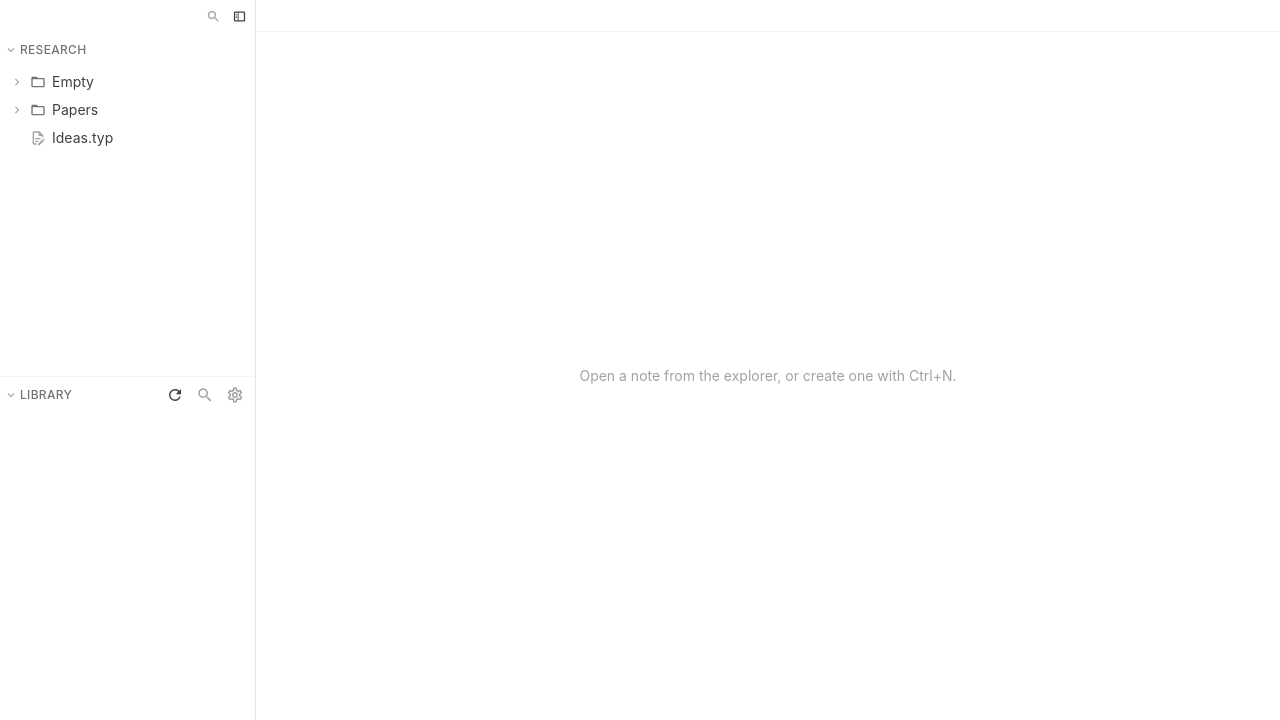
Renaming a folder › a name that can't be used is explained
This screenshot has width=1280, height=720.
Expected: the button "Ideas.typ" is shown, [6,124,249,152]
Right-click the button "Papers".
right_click(128, 110)  # box [6,96,249,124]
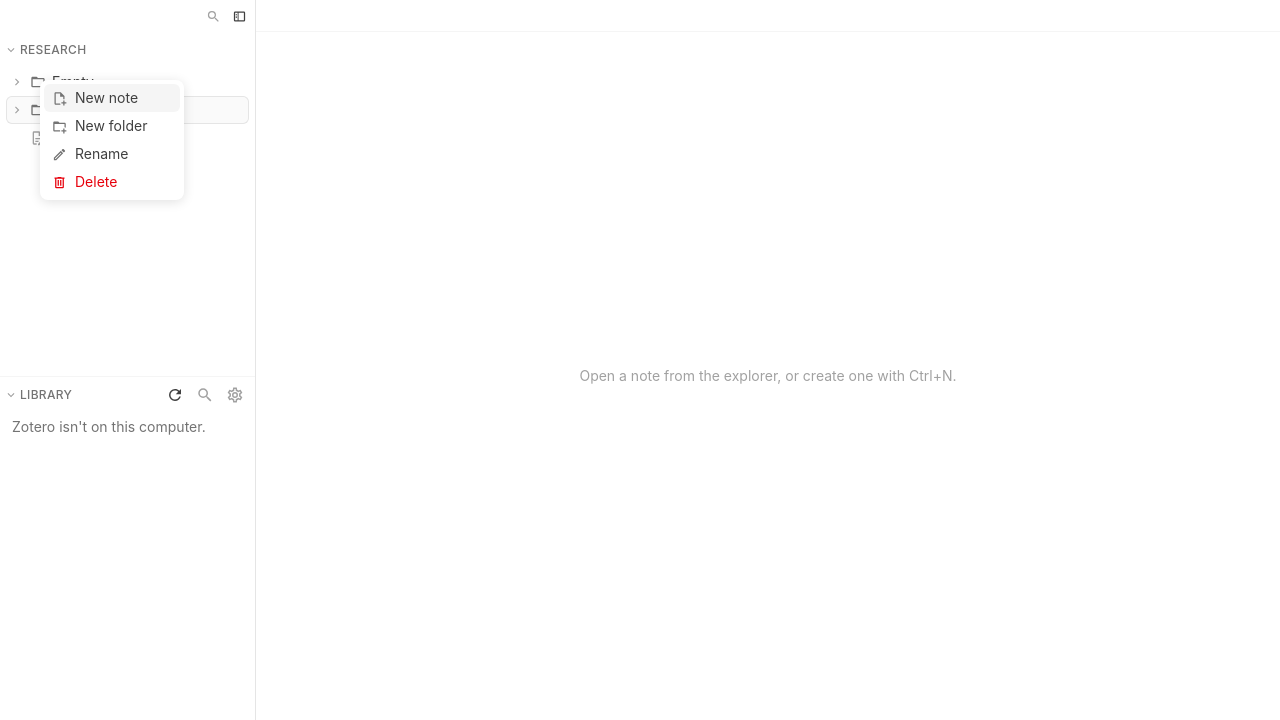
Click the menu item "Rename".
click(112, 154)  # box [44,140,180,168]
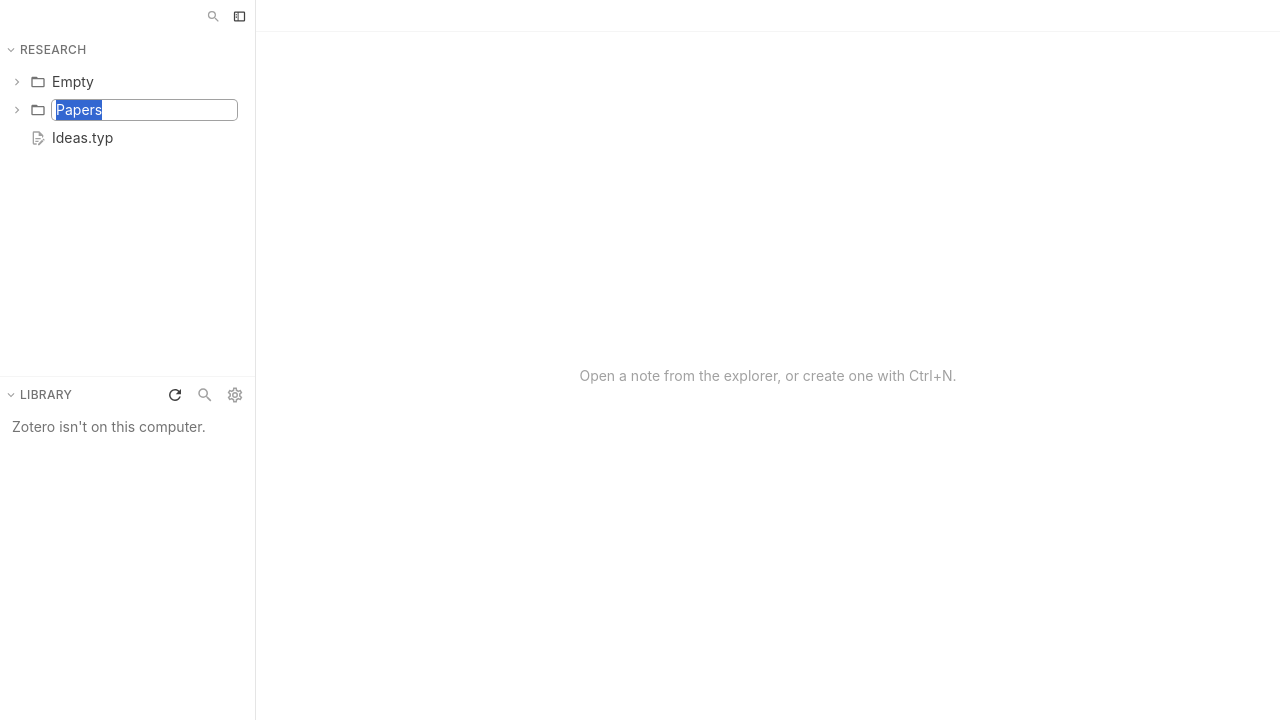
Clear the field named "Folder name" at [144, 110], box [52,100,237,120]
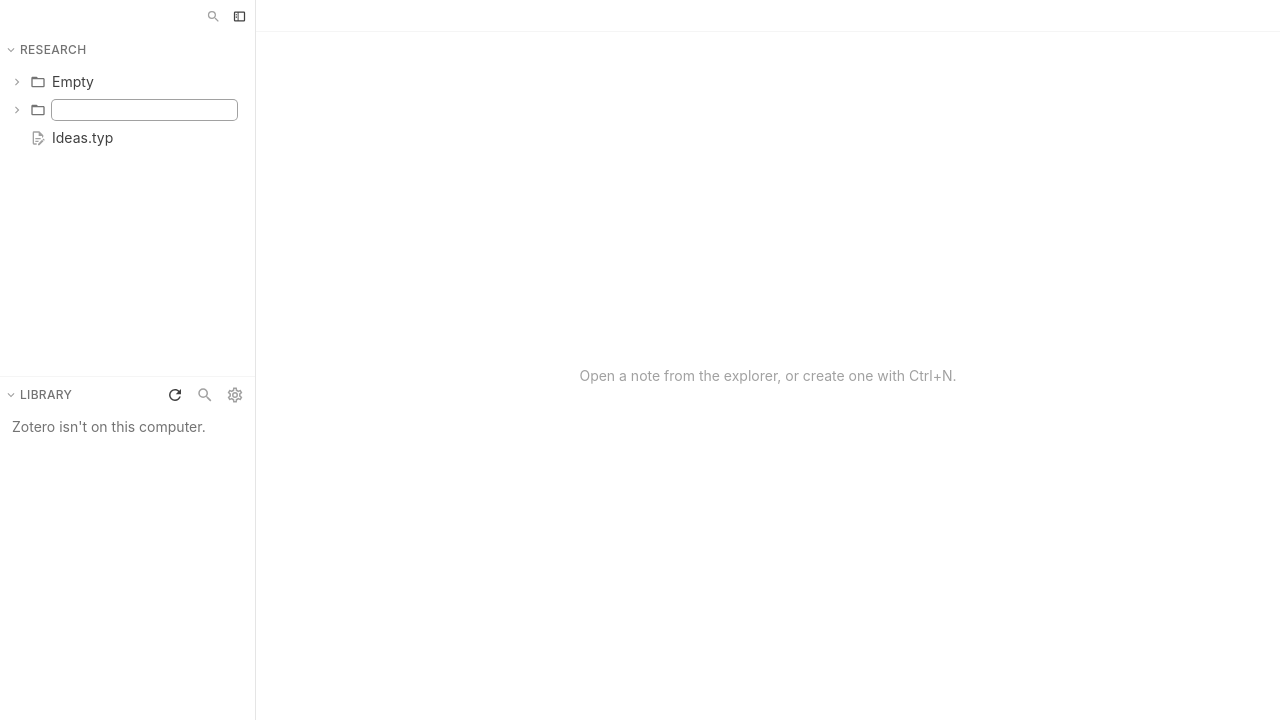
Type keys "Empty{Enter}"
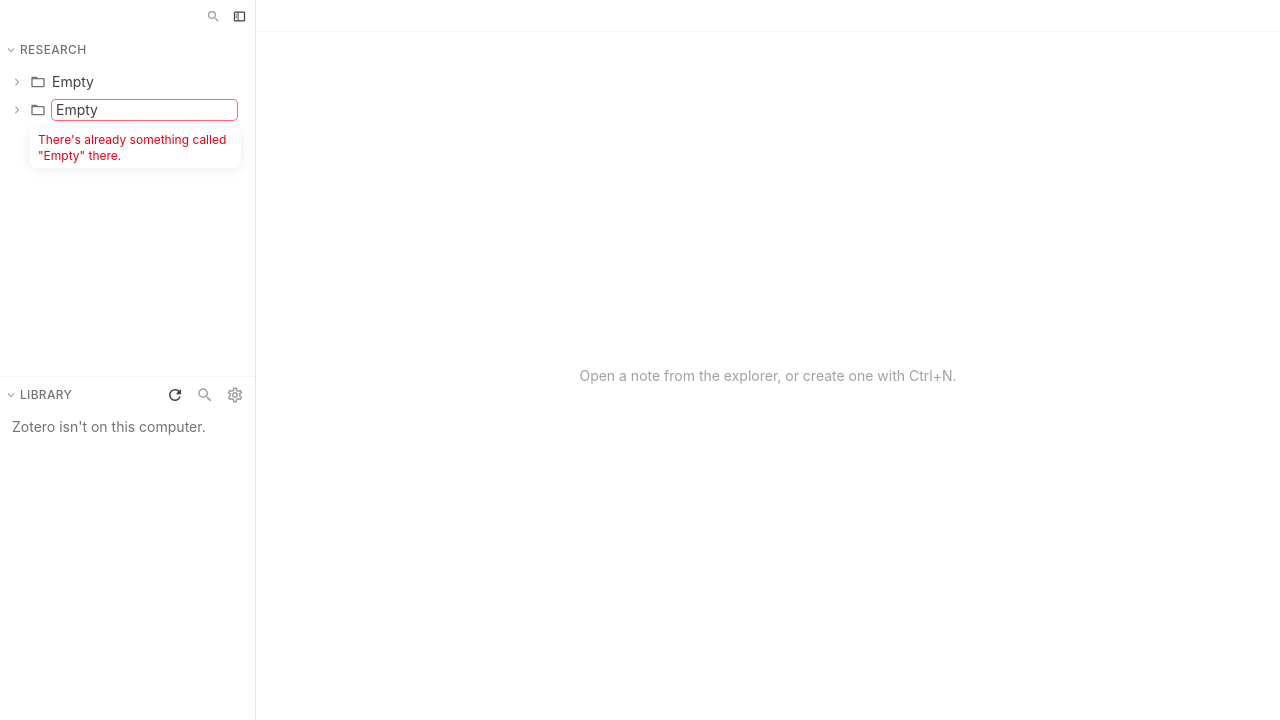
Expected: the message reads "There's already something called \"Empty\" there.", [38,132,226,163]
